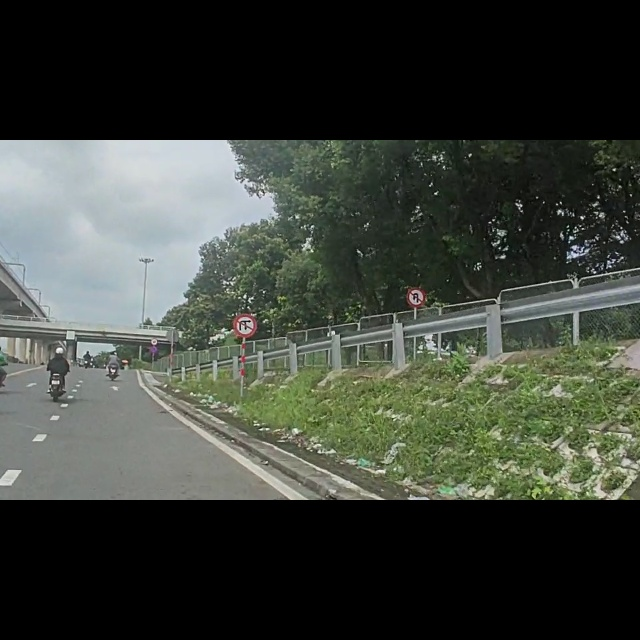bien_cam: (233, 309, 257, 352), (405, 263, 425, 299), (151, 352, 158, 364), (150, 367, 157, 378)
